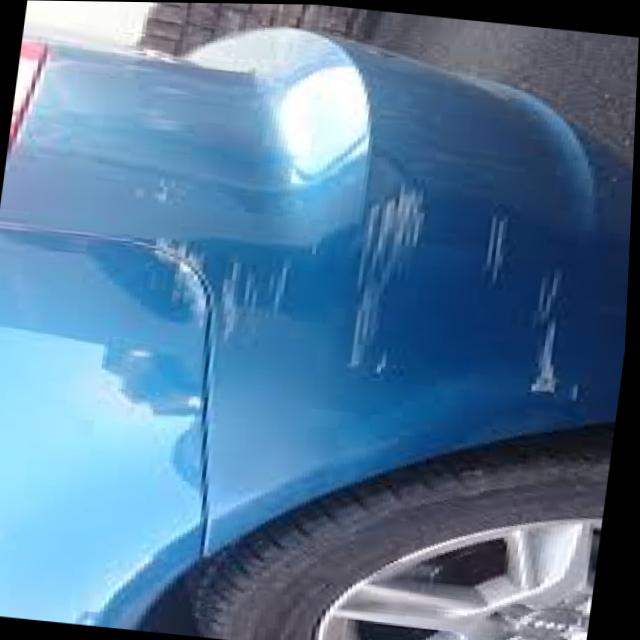Scratch: (129, 195, 577, 414)
